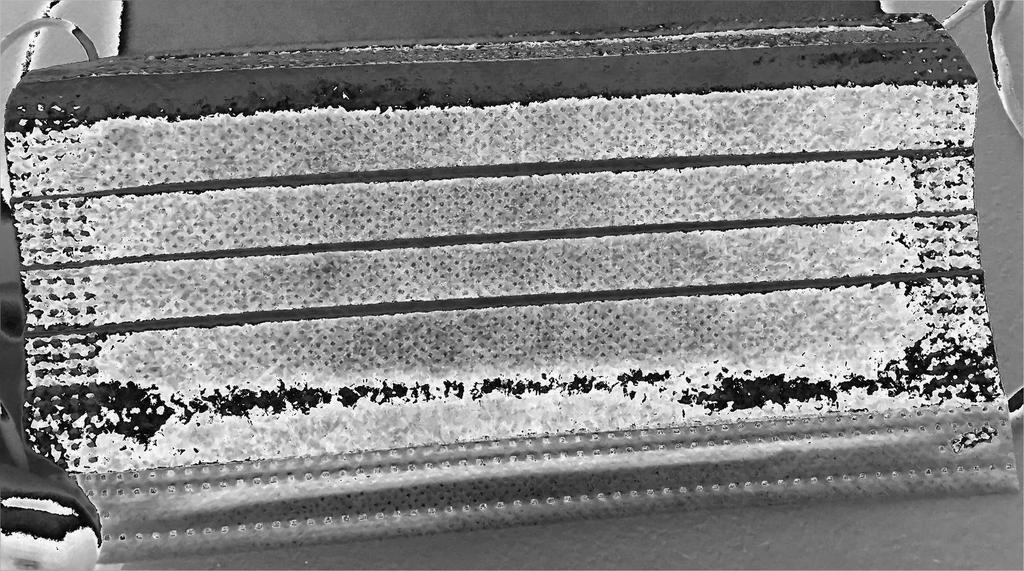High GSM: (3, 73, 1021, 482)
